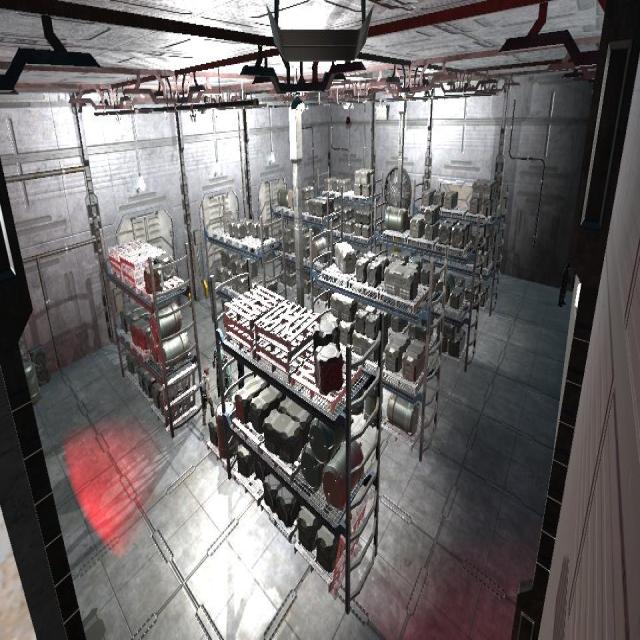thiefs: (200, 364, 216, 430)
